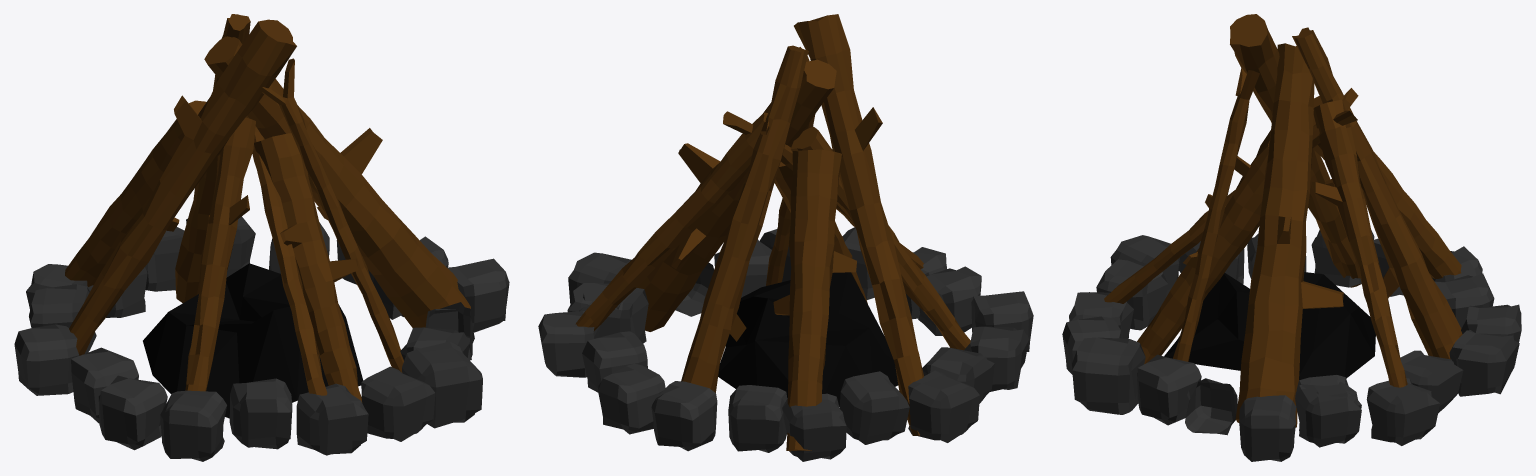
Rendered from campfire.glb.
3 renders of one model, left to right at view 1: azimuth 30°, elevation 25°; view 2: azimuth 150°, elevation 25°; view 3: azimuth 270°, elevation 25°, orthographic. The views are drawn at different scales.
Parts seen in each view (by area): view 1: FirePit_0; view 2: FirePit_0; view 3: FirePit_0.
Boxes of the visible parts, x1,y1,x2,y2 form: FirePit_0: [14, 14, 509, 461]; FirePit_0: [538, 14, 1033, 461]; FirePit_0: [1062, 14, 1521, 461].
Bounding box in the file's own units: 0.9757 × 0.7778 × 0.9243.
1 material, 1 textured.
